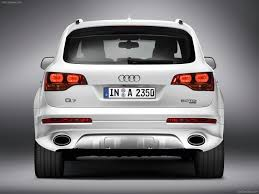car: (28, 16, 229, 181)
